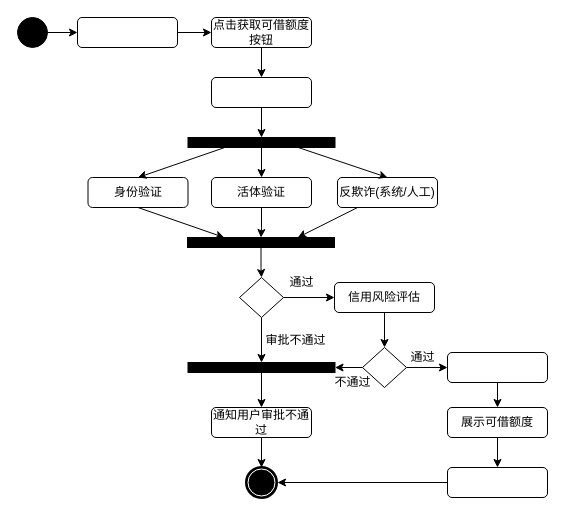
Some shapes in this 565 by 515 pixel diagram are drawn without their labels. Here are the shapes that lost their labels. From the top down, the centre of each, then its label:
At pixel 127 32: "授权系统查询征信信息".
At pixel 261 92: "风险审批".
At pixel 497 367: "信用等级评估".
At pixel 497 482: "上报全行".
